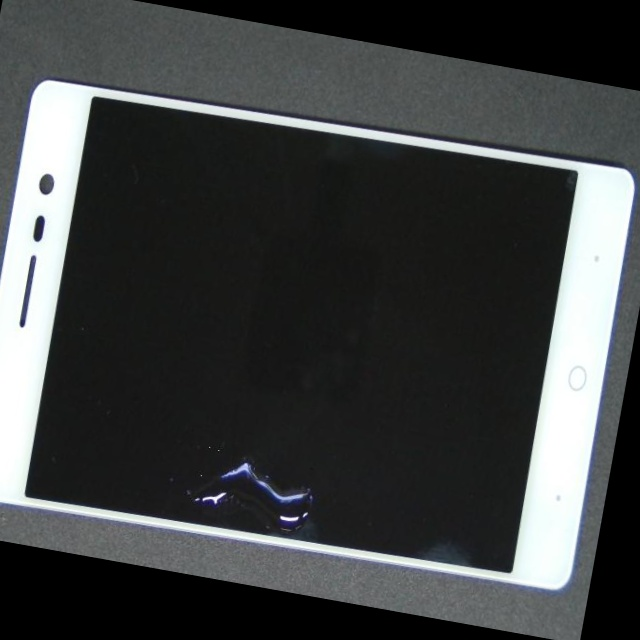oil: (110, 224, 522, 623)
